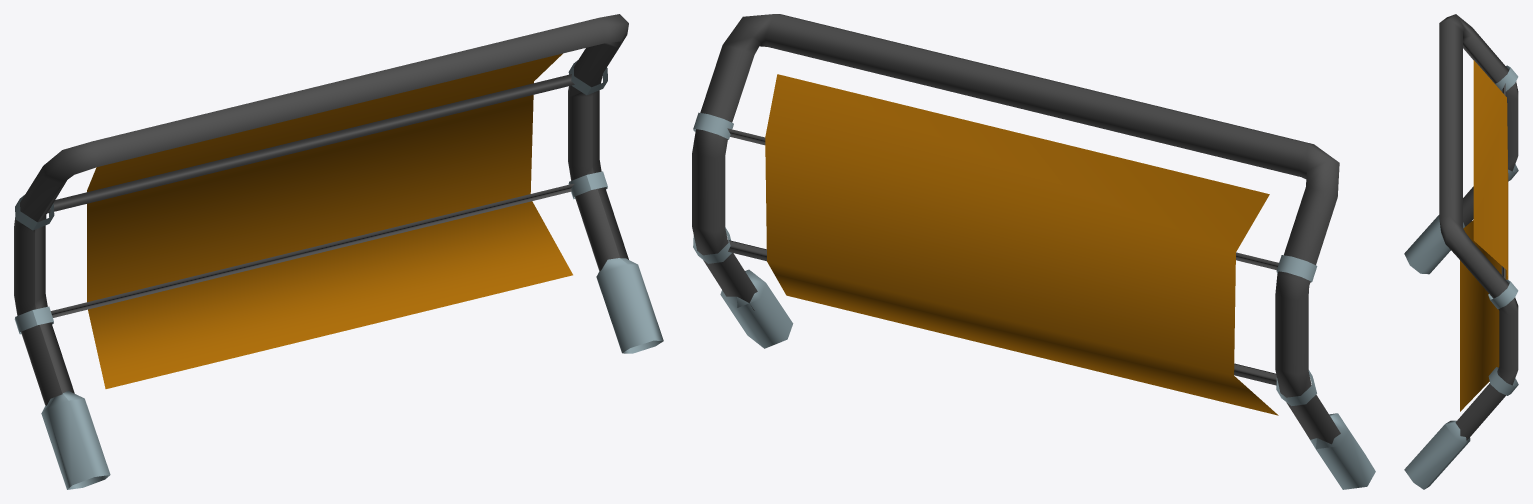
File: env_building_warehouse01fence02B_lod2.fbx
3 renders of one model, left to right at view 1: azimuth 30°, elevation 25°; view 2: azimuth 150°, elevation 25°; view 3: azimuth 270°, elevation 25°, orthographic. The views are drawn at different scales.
Parts seen in each view (by area): view 1: env_building_warehouse01fence02B_lod2; view 2: env_building_warehouse01fence02B_lod2; view 3: env_building_warehouse01fence02B_lod2.
Boxes of the visible parts, bbox=[...] form: env_building_warehouse01fence02B_lod2: bbox=[14, 14, 663, 489]; env_building_warehouse01fence02B_lod2: bbox=[692, 14, 1375, 489]; env_building_warehouse01fence02B_lod2: bbox=[1404, 14, 1518, 489].
Bounding box in the file's own units: 61.65 × 33.09 × 13.07.
